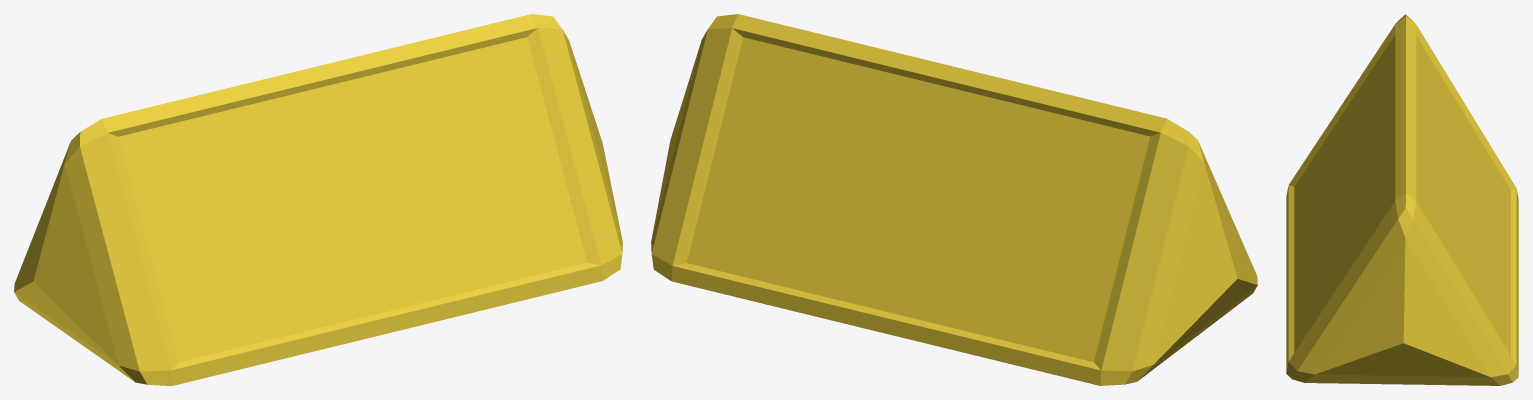
3 views of the same model, side by side, from view 1: azimuth 30°, elevation 25°; view 2: azimuth 150°, elevation 25°; view 3: azimuth 270°, elevation 25° (orthographic). The views are drawn at different scales.
Parts seen in each view (by area): view 1: Barril.006; view 2: Barril.006; view 3: Barril.006.
Boxes of the visible parts, <box> form: Barril.006: <box>14,14,622,385</box>; Barril.006: <box>651,14,1257,385</box>; Barril.006: <box>1286,14,1518,385</box>.
Bounding box in the file's own units: 0.3161 × 0.1189 × 0.133.
